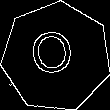O_S: (32, 29, 81, 85)
